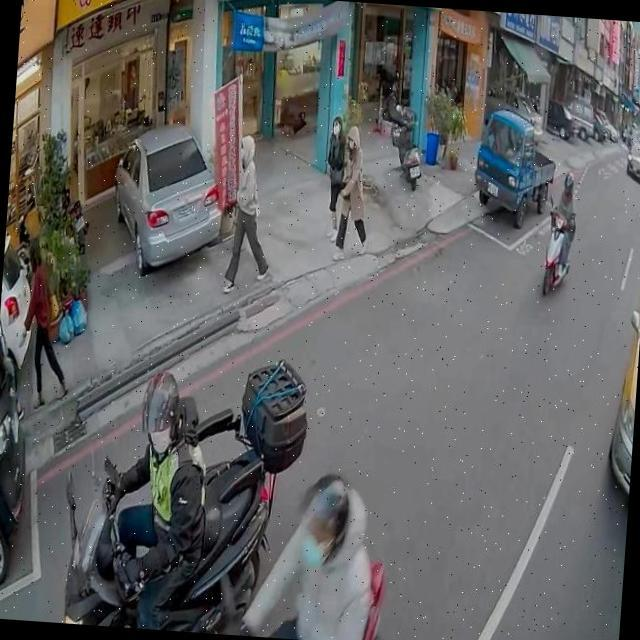person: (83, 365, 217, 632), (232, 466, 384, 640), (12, 228, 82, 410), (214, 125, 284, 298), (327, 122, 376, 255), (0, 263, 37, 419), (322, 114, 361, 245), (542, 168, 578, 288)
